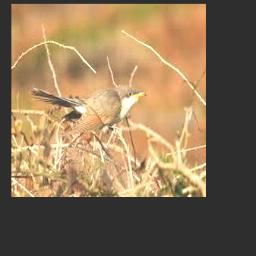Cuckoo: (32, 86, 148, 133)
